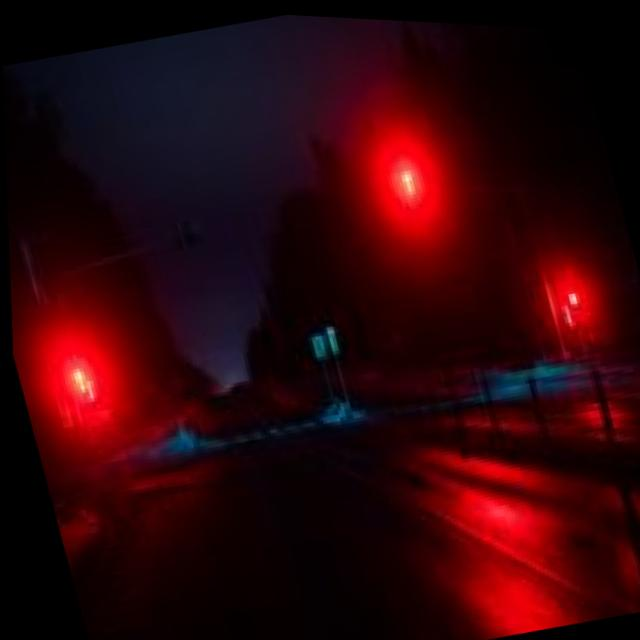red_light: (9, 316, 148, 468), (361, 125, 469, 246), (528, 248, 611, 340)
